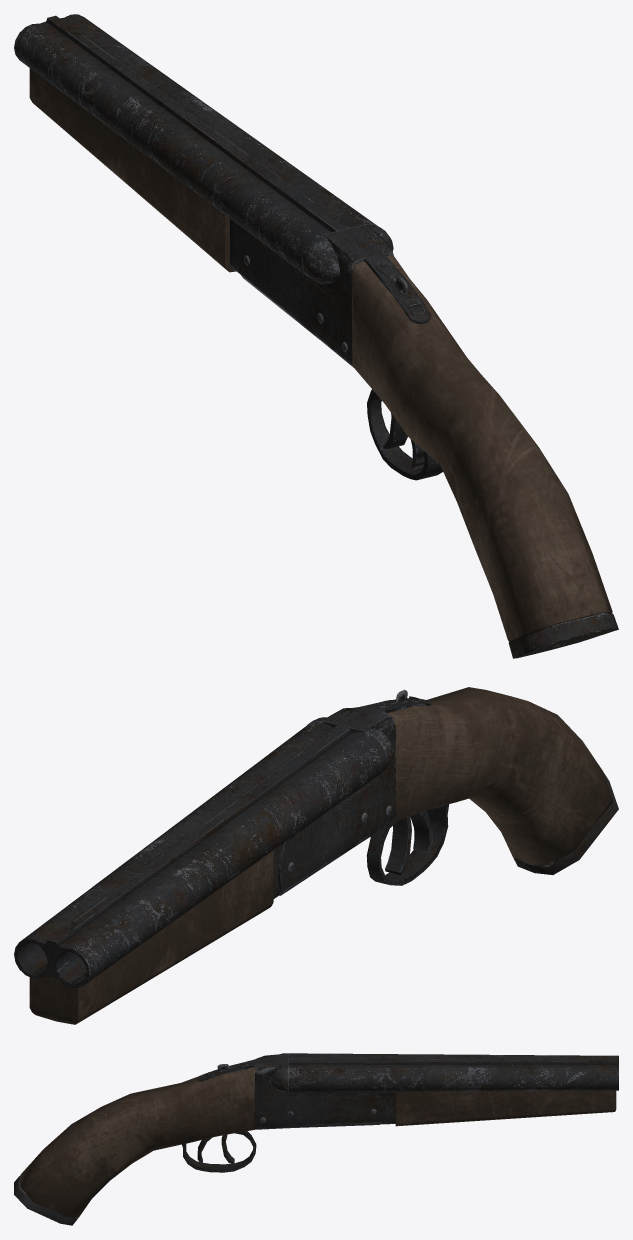
3 renders of one model, top to bottom at view 1: azimuth 30°, elevation 25°; view 2: azimuth 150°, elevation 25°; view 3: azimuth 270°, elevation 25°, orthographic. The views are drawn at different scales.
Parts seen in each view (by area): view 1: body_boomstick_0, barrel_boomstick_1; view 2: barrel_boomstick_1, body_boomstick_0, body_boomstick_3, body_boomstick_2; view 3: body_boomstick_0, barrel_boomstick_1.
Boxes of the visible parts, x1=… form: body_boomstick_0: x1=237, y1=224, x2=618, y2=658; barrel_boomstick_1: x1=14, y1=14, x2=377, y2=276; barrel_boomstick_1: x1=14, y1=722, x2=386, y2=1024; body_boomstick_0: x1=278, y1=687, x2=618, y2=895; body_boomstick_3: x1=385, y1=816, x2=411, y2=874; body_boomstick_2: x1=410, y1=810, x2=433, y2=853; body_boomstick_0: x1=14, y1=1053, x2=384, y2=1225; barrel_boomstick_1: x1=289, y1=1053, x2=618, y2=1126.
Bounding box in the file's own units: 0.0701 × 0.2202 × 0.7479.
1 material, 1 textured.
